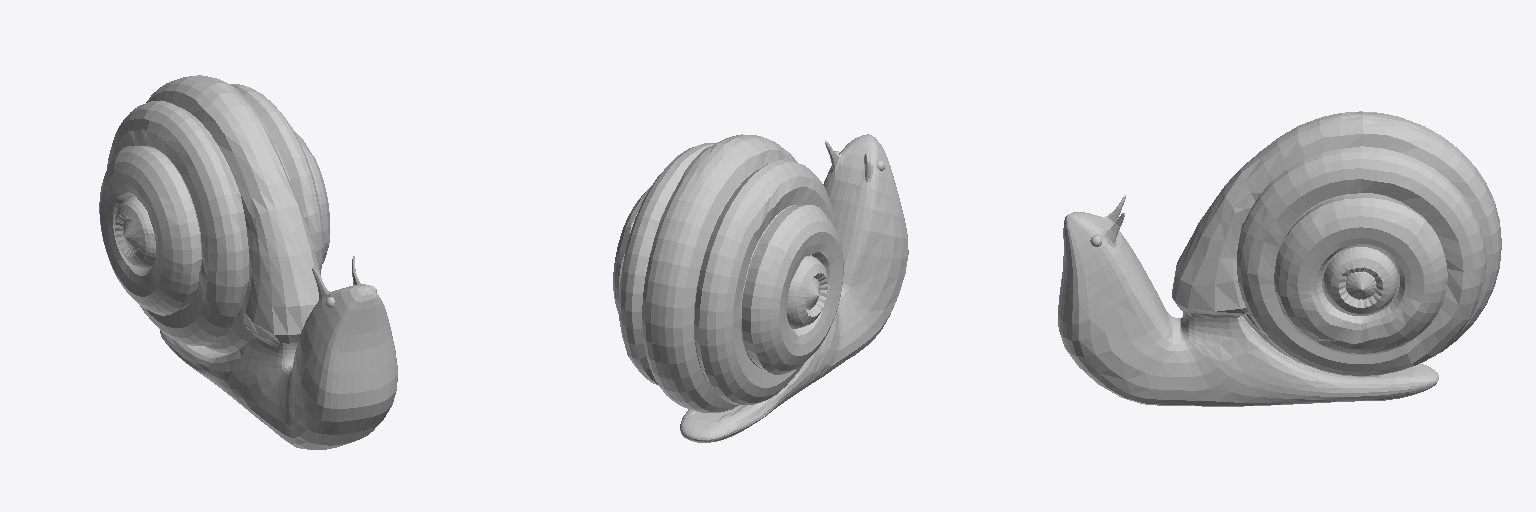
File: snail.obj
3 renders of one model, left to right at view 1: azimuth 30°, elevation 25°; view 2: azimuth 150°, elevation 25°; view 3: azimuth 270°, elevation 25°, orthographic.
Parts seen in each view (by area): view 1: pSphere1; view 2: pSphere1; view 3: pSphere1.
Boxes of the visible parts, x1=… form: pSphere1: x1=99, y1=75, x2=397, y2=449; pSphere1: x1=613, y1=134, x2=908, y2=442; pSphere1: x1=1058, y1=111, x2=1501, y2=406.
Bounding box in the file's own units: 1.48 × 2.19 × 3.1.